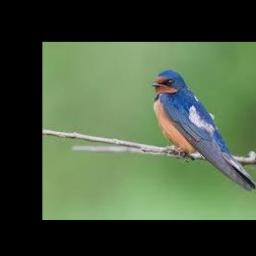Swallow: (151, 71, 256, 191)
